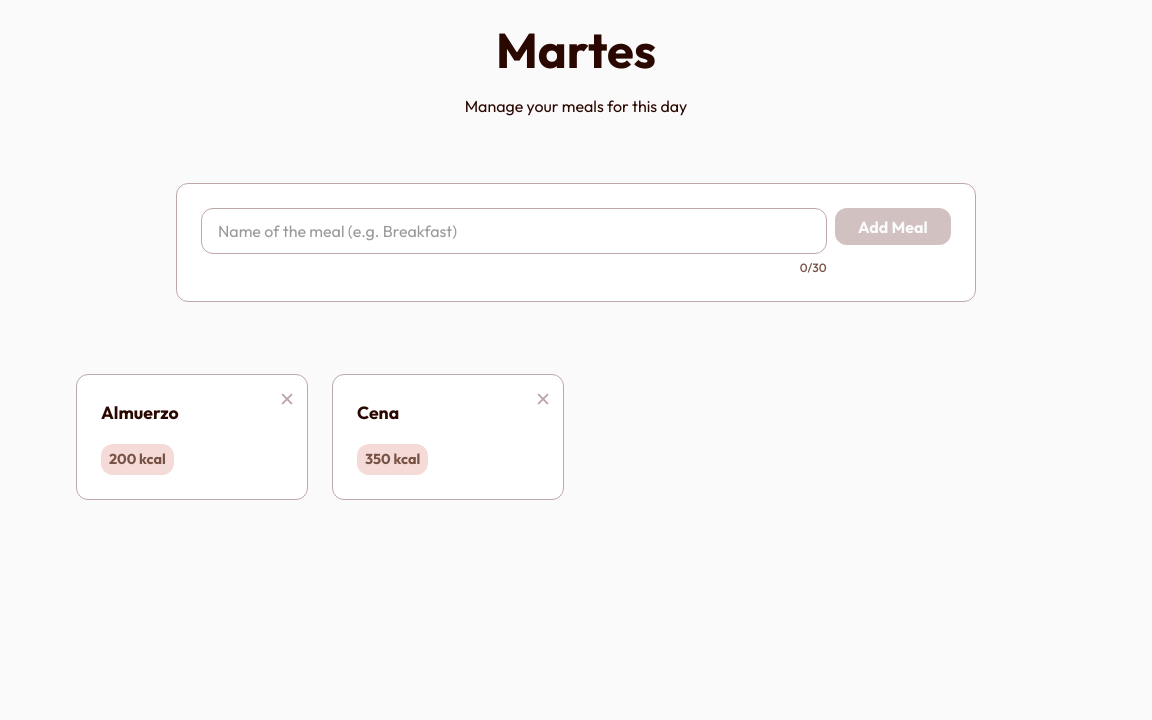
it: DayItem - Meals Management (Integration) › debe cerrar el modal sin borrar si el usuario cancela
// Abrir modal
Click the button titled "Delete meal" next to "Almuerzo" at (287, 400), box [275,384,299,416]
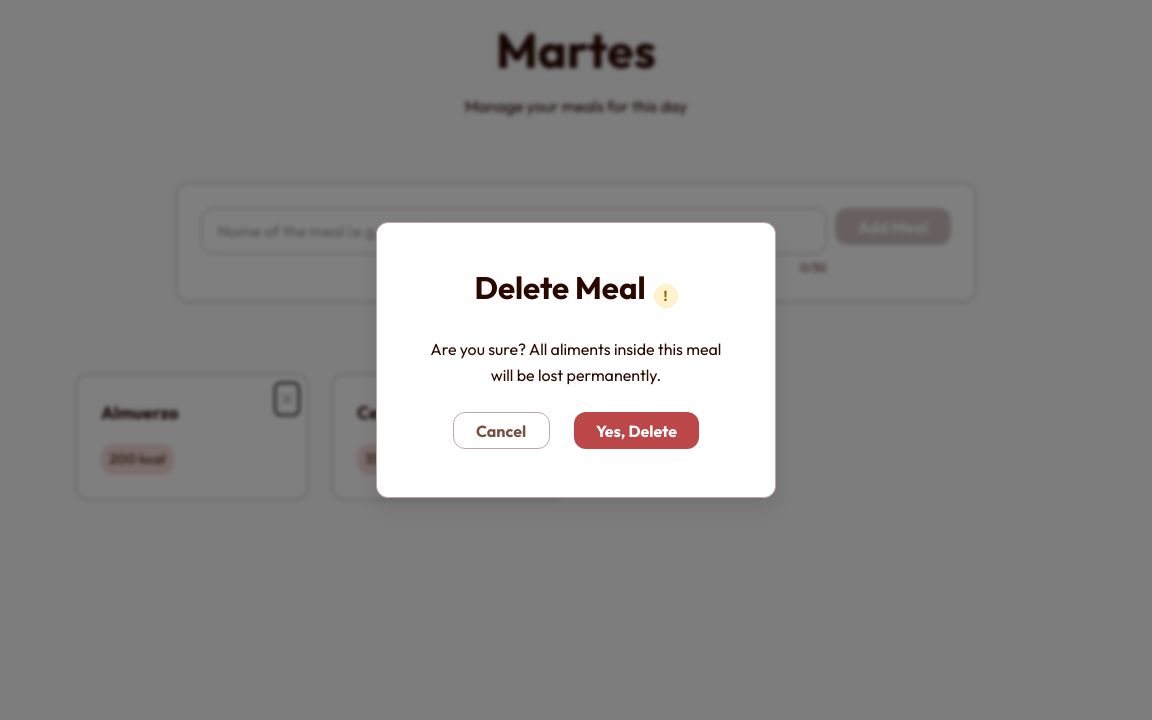
Click the button "Cancel" at (501, 431), box [453,412,550,449]
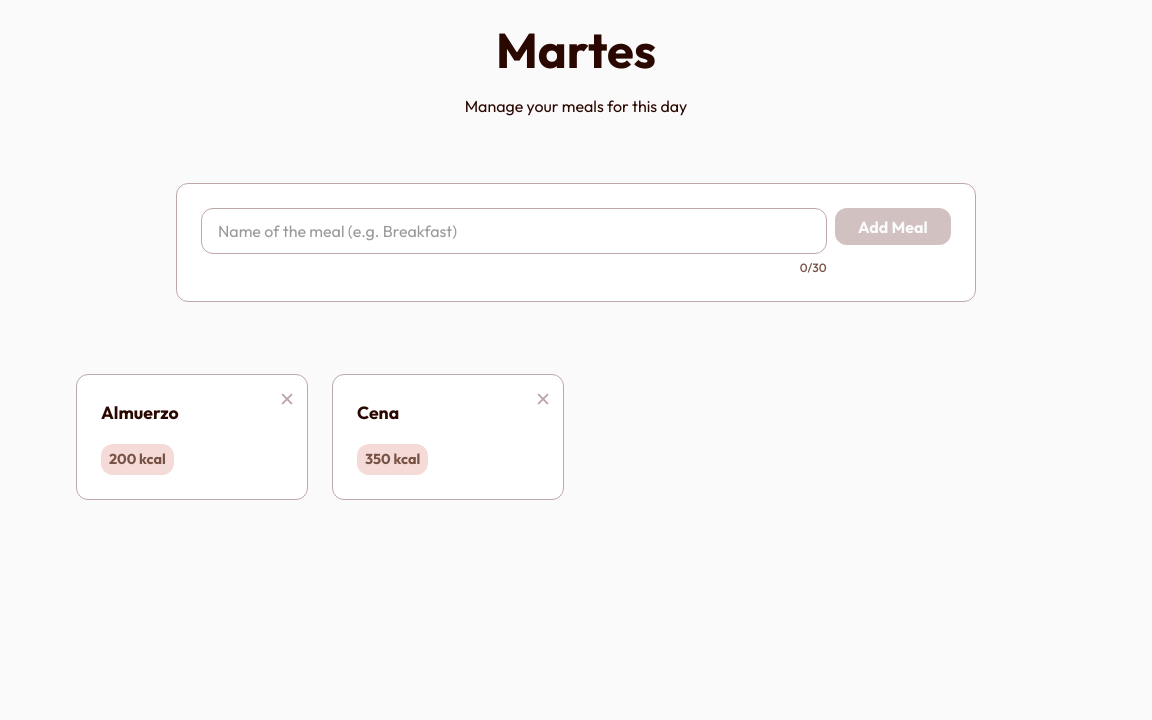
Check: the text "Almuerzo" is shown, box [101,402,179,424]
Check: the heading "Delete Meal" is gone
